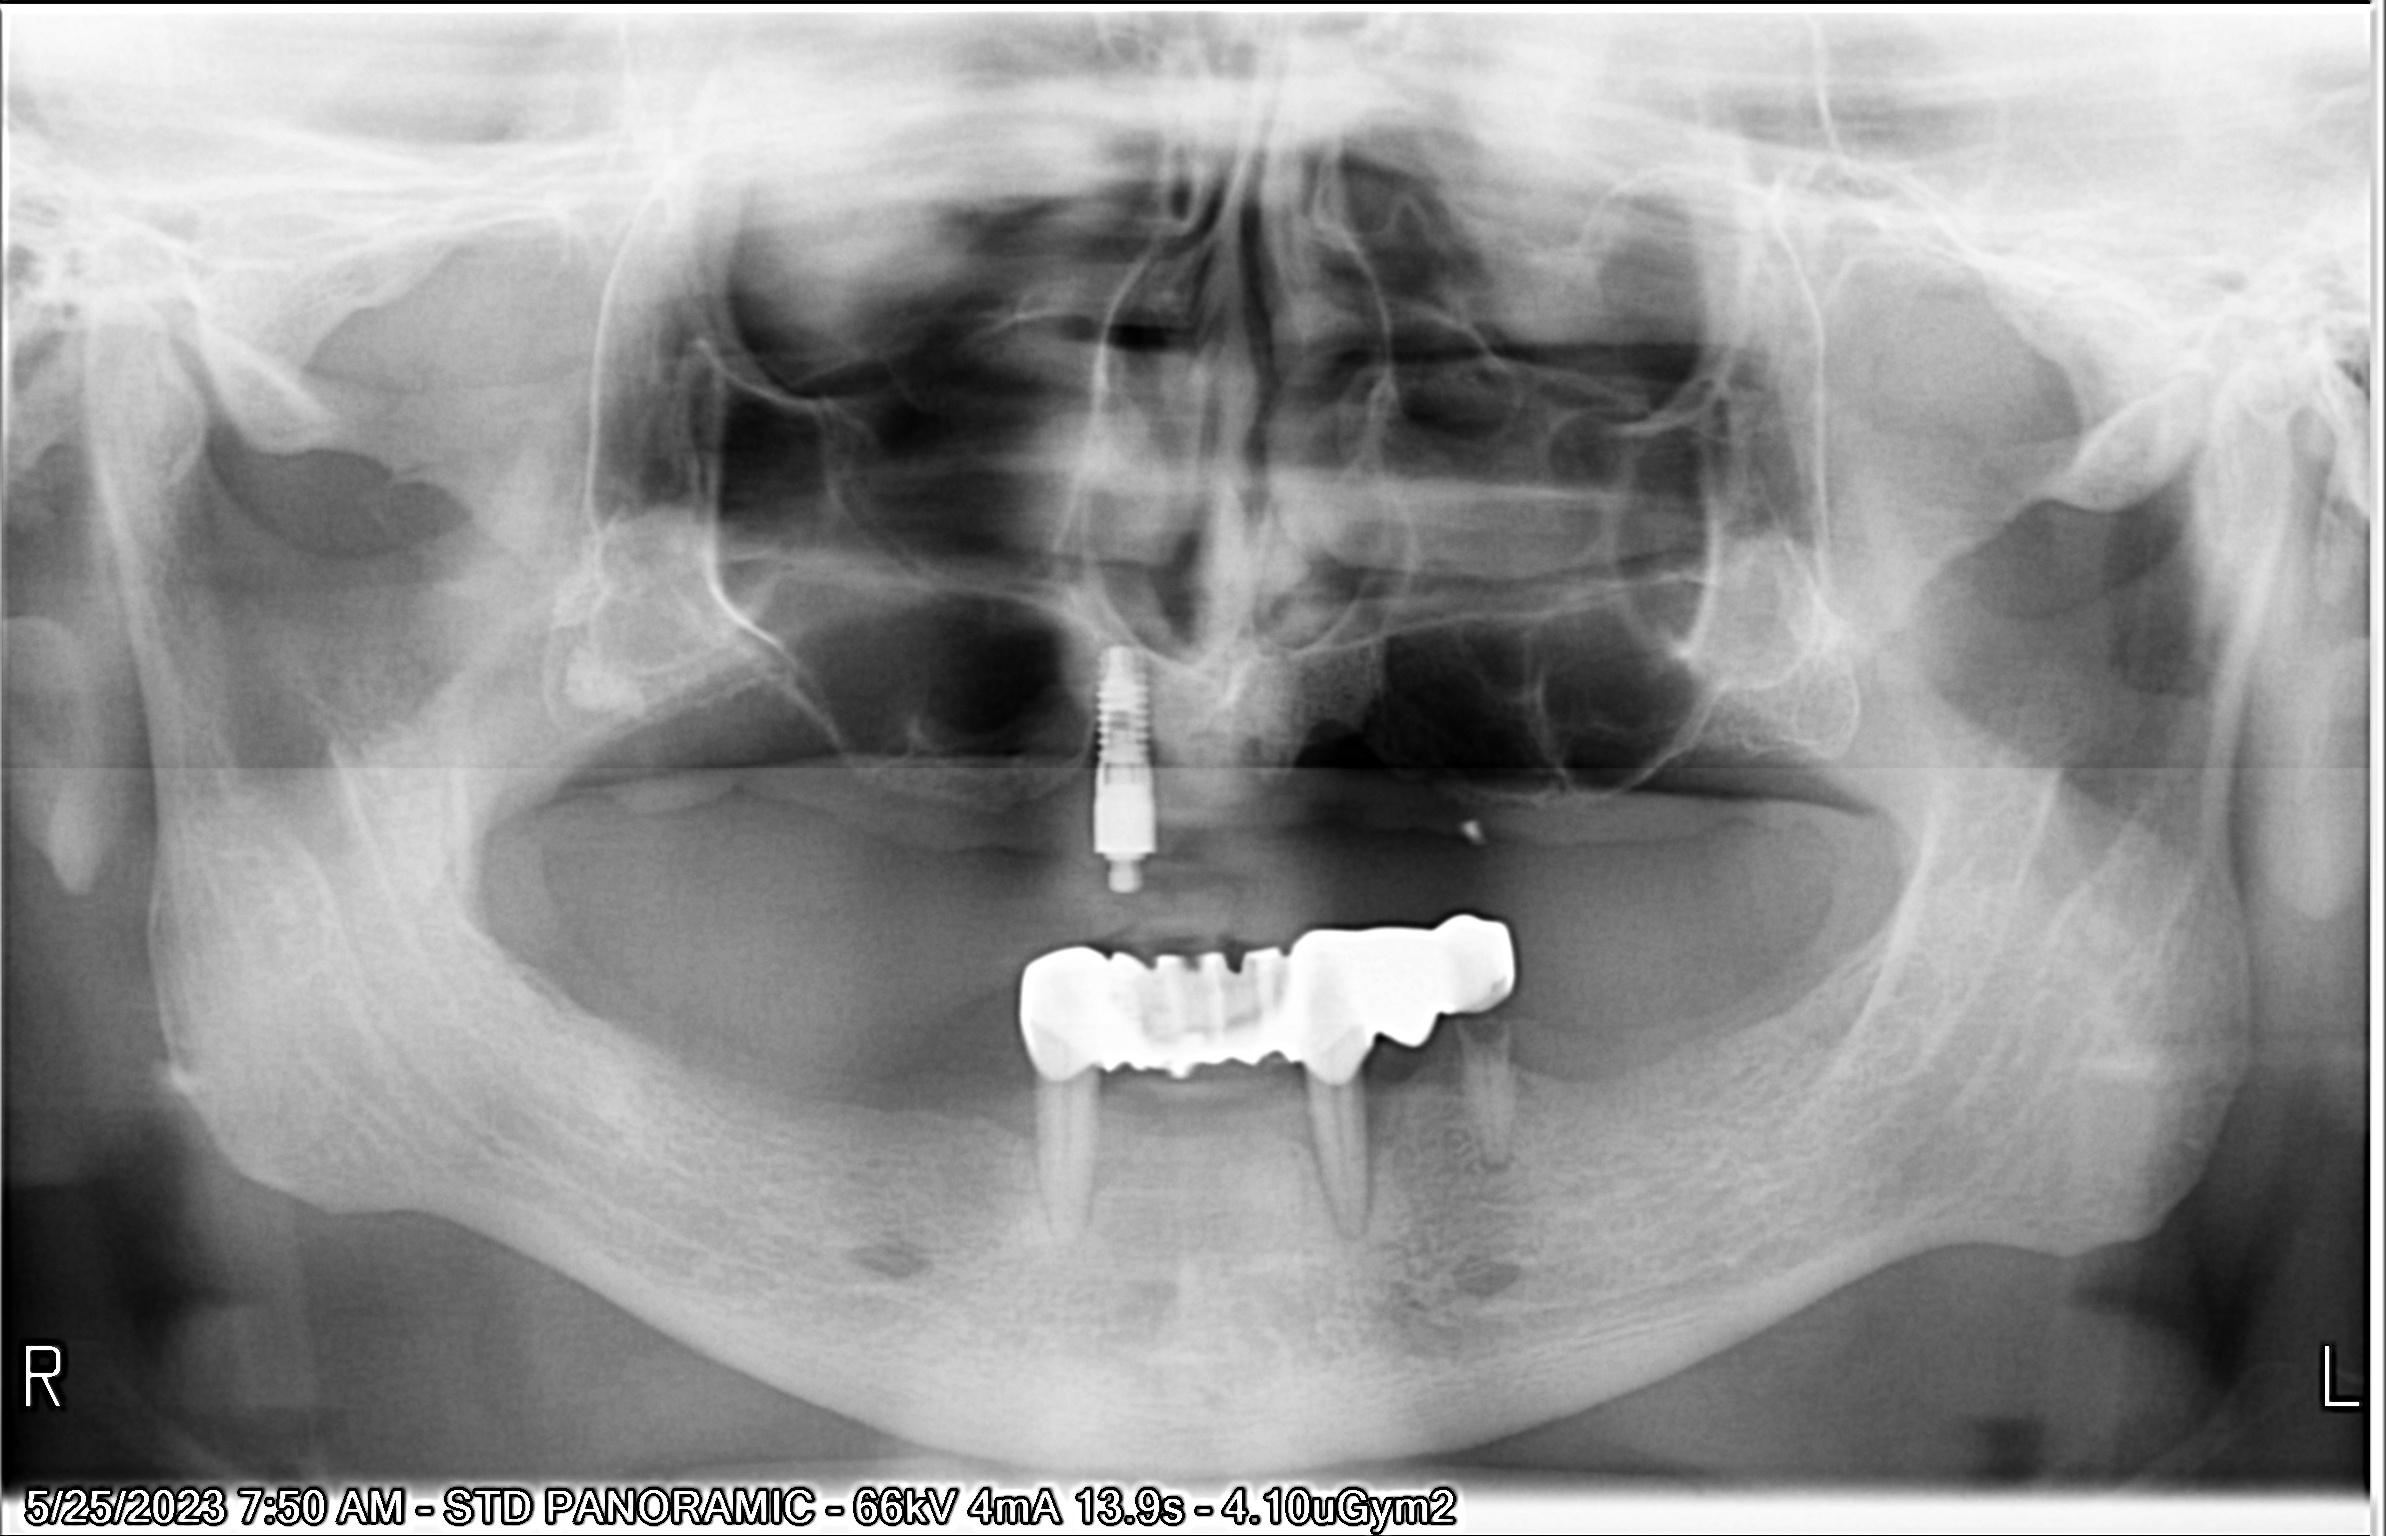API: (1283, 1139, 1384, 1268), (1456, 1145, 1543, 1204)
IMP: (1038, 624, 1205, 889)
PRR: (1000, 908, 1551, 1089)
